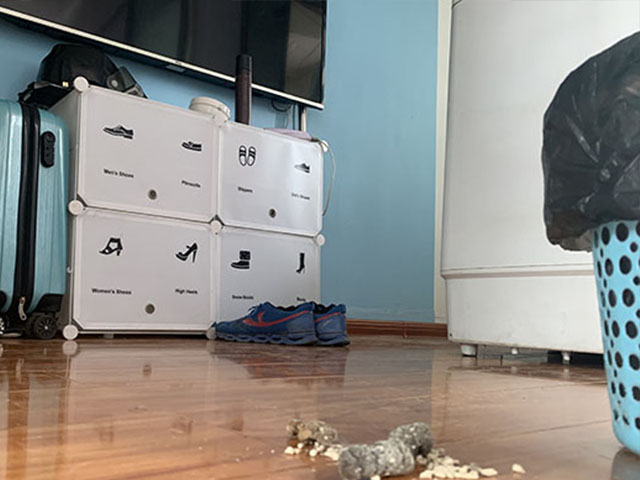feces: (336, 418, 437, 480), (282, 410, 340, 446)
